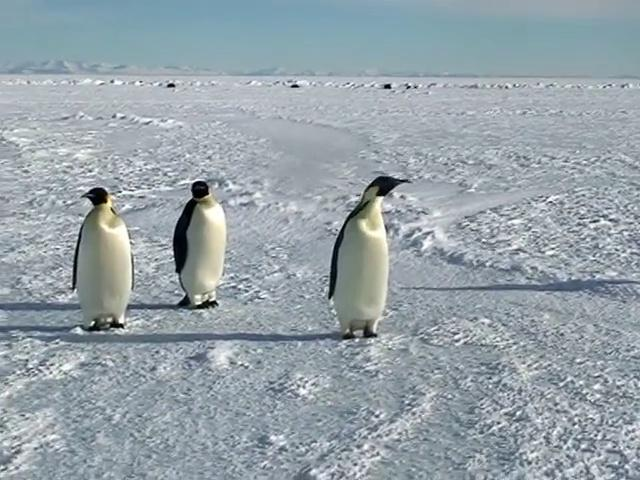animal: (328, 176, 409, 338)
